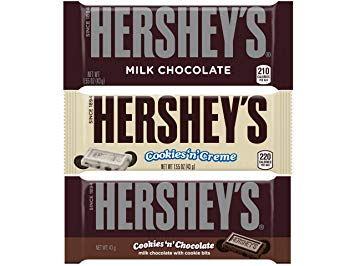hershey: (63, 3, 294, 90)
